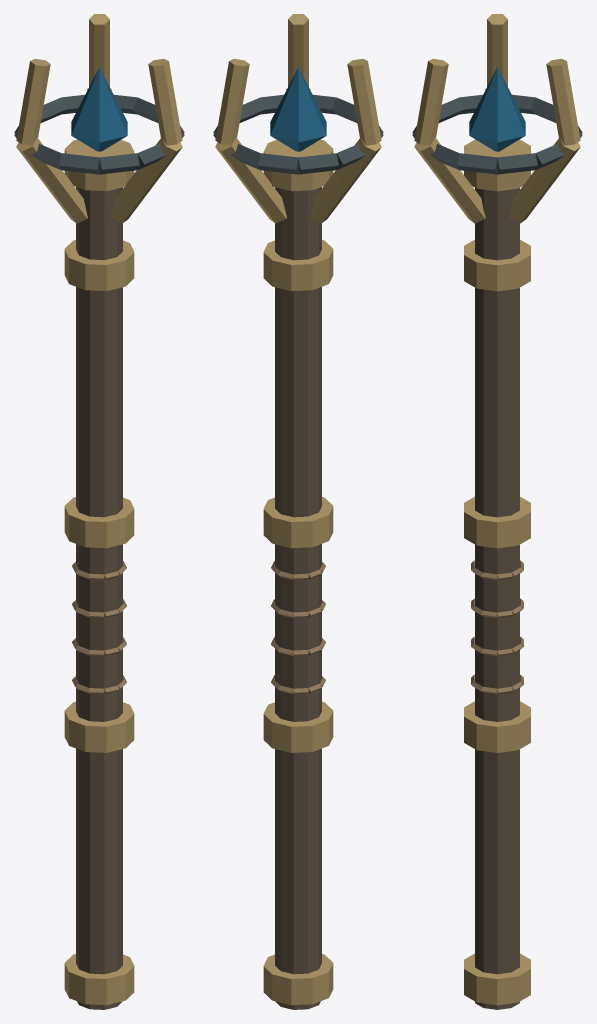
File: Equip_Staff.fbx
3 renders of one model, left to right at view 1: azimuth 30°, elevation 25°; view 2: azimuth 150°, elevation 25°; view 3: azimuth 270°, elevation 25°, orthographic.
Parts seen in each view (by area): view 1: Equip_Staff; view 2: Equip_Staff; view 3: Equip_Staff.
Boxes of the visible parts, x1,y1,x2,y2 form: Equip_Staff: (14, 14, 184, 1009); Equip_Staff: (213, 14, 383, 1009); Equip_Staff: (412, 14, 582, 1009).
Size of the model in its own units: 0.3394 by 2 by 0.3248.
